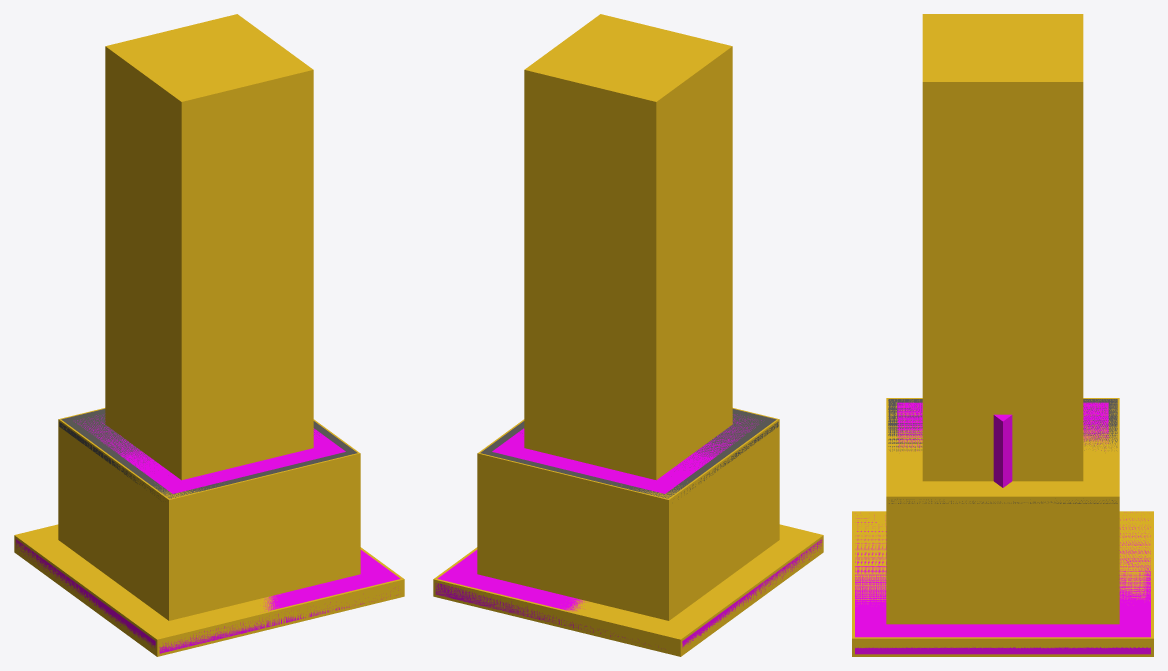
The model's file is lm_statue.glb.
3 views of the same model, side by side, from view 1: azimuth 30°, elevation 25°; view 2: azimuth 150°, elevation 25°; view 3: azimuth 270°, elevation 25° (orthographic). The views are drawn at different scales.
Visible parts, largest first — view 1: lm_statue__col, lm_statue__shell; view 2: lm_statue__col, lm_statue__shell; view 3: lm_statue__col, lm_statue__shell.
Part boxes in pixels (x1,y1,x2,y2): lm_statue__col: (14,14,404,656); lm_statue__shell: (15,409,400,653); lm_statue__col: (433,14,823,656); lm_statue__shell: (435,409,822,649); lm_statue__col: (852,14,1153,656); lm_statue__shell: (855,399,1150,654).
Size of the model in its own units: 3 by 5.98 by 3.
Materials: 1 (1 with a texture image).
